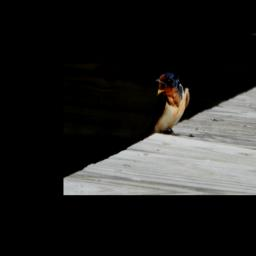Swallow: (148, 69, 191, 136)
